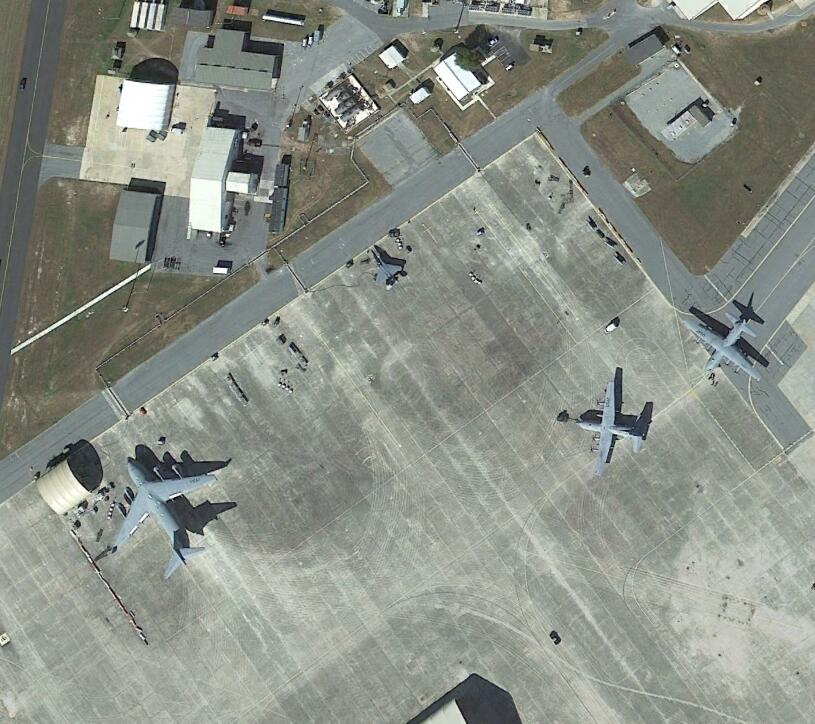A13: (366, 248, 407, 293)
A2: (579, 382, 648, 472), (682, 311, 766, 384)
A3: (107, 458, 219, 580)
